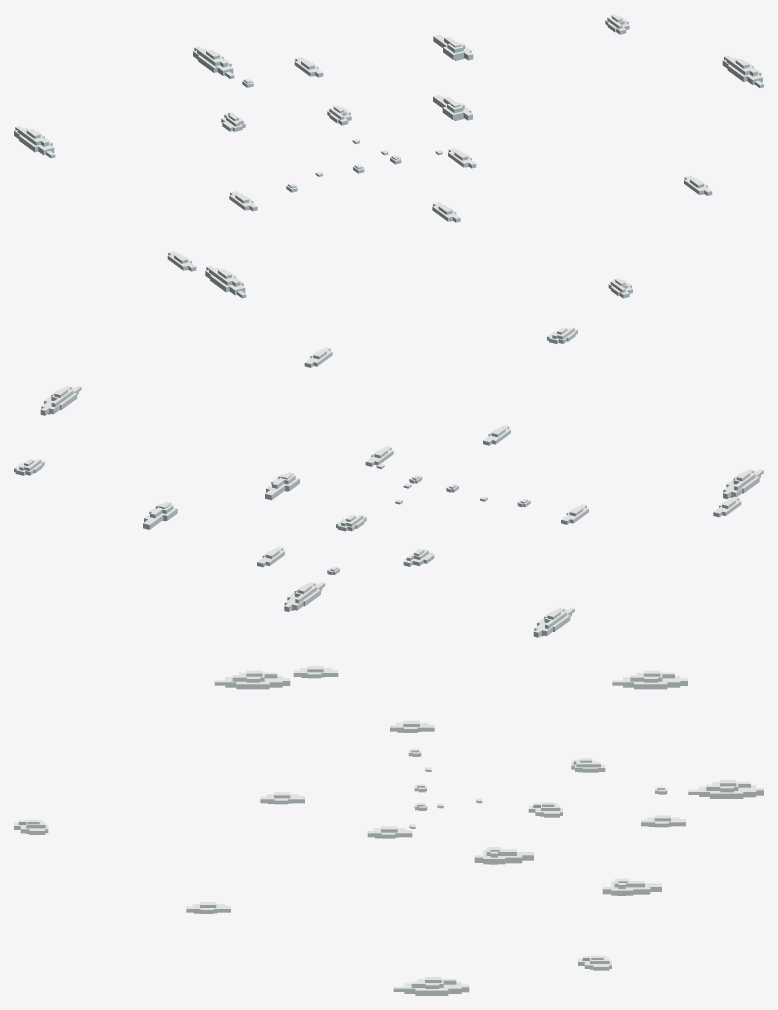
File: skyBoxClouds.gltf
3 views of the same model, one above another, from view 1: azimuth 30°, elevation 25°; view 2: azimuth 150°, elevation 25°; view 3: azimuth 270°, elevation 25° (orthographic). The views are drawn at different scales.
Parts seen in each view (by area): view 1: Cloud_02, Cloud_02_2, Cloud_02_3, Cloud_02_1, Cloud_01_1, Cloud_01; view 2: Cloud_02, Cloud_02_3, Cloud_02_1, Cloud_02_2, Cloud_01_1, Cloud_01; view 3: Cloud_02_2, Cloud_02_3, Cloud_02_1, Cloud_02, Cloud_01, Cloud_01_1.
Part boxes in pixels (<box>): Cloud_02: <box>193,46,234,78</box>; Cloud_02_2: <box>205,265,246,298</box>; Cloud_02_3: <box>14,125,55,158</box>; Cloud_02_1: <box>722,55,763,87</box>; Cloud_01_1: <box>433,34,473,60</box>; Cloud_01: <box>433,94,472,120</box>; Cloud_02: <box>284,582,325,611</box>; Cloud_02_3: <box>533,607,574,637</box>; Cloud_02_1: <box>40,385,81,415</box>; Cloud_02_2: <box>723,469,763,499</box>; Cloud_01_1: <box>143,501,177,529</box>; Cloud_01: <box>265,472,299,500</box>; Cloud_02_2: <box>214,670,290,689</box>; Cloud_02_3: <box>612,670,687,689</box>; Cloud_02_1: <box>393,977,469,995</box>; Cloud_02: <box>688,780,763,798</box>; Cloud_01: <box>474,847,533,864</box>; Cloud_01_1: <box>602,878,661,895</box>.
Bounding box in the file's own units: 505 × 10.18 × 497.
Materials: 1 (1 with a texture image).
